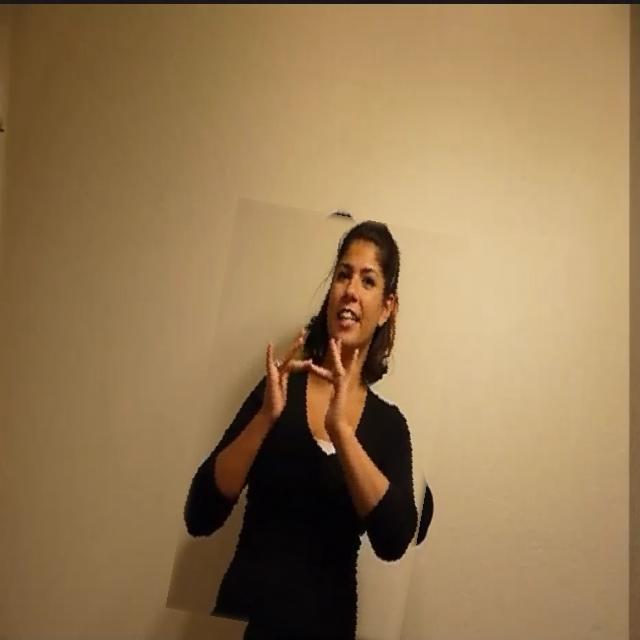Internet: (183, 205, 453, 640)
